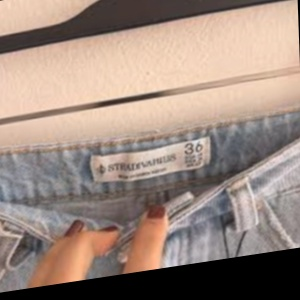stradivarius: (126, 53, 231, 241)
